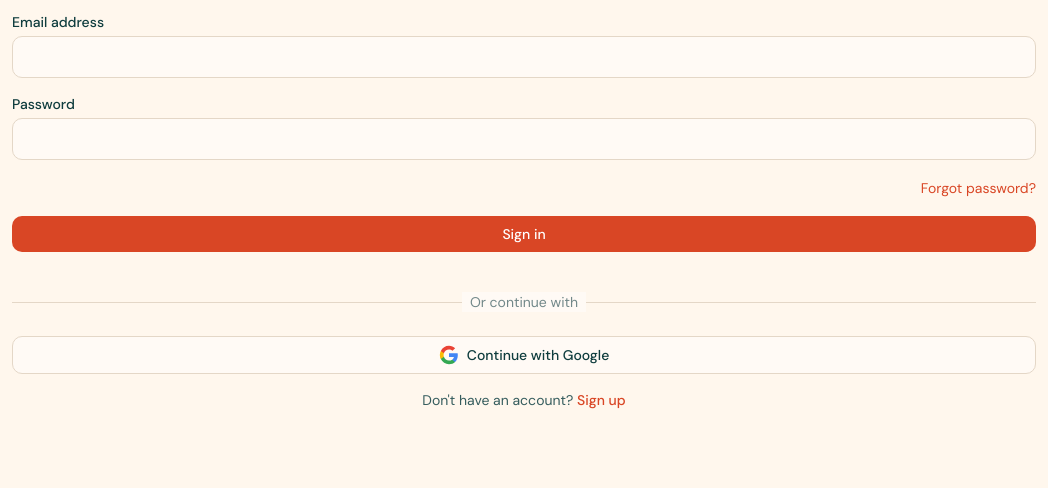
Test: components/auth/LoginForm › shows error for invalid credentials
Type "test@example.com" into the field labelled "Email address".
click(524, 57); type("test@example.com")  # box [12, 36, 1036, 78]
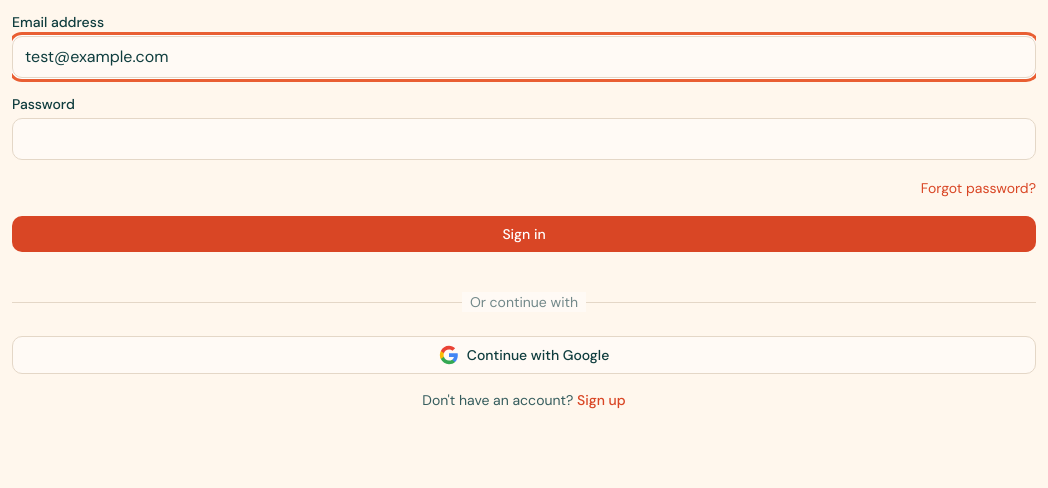
Type "WrongPassword1" into the password field labelled "Password".
click(524, 139); type("WrongPassword1")  # box [12, 118, 1036, 160]
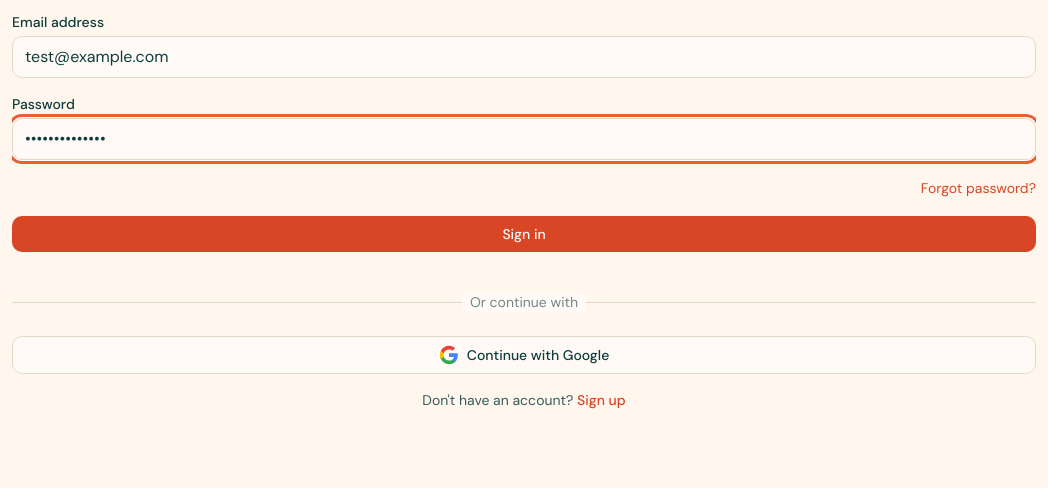
Click the button "Sign in".
click(524, 234)  # box [12, 216, 1036, 252]
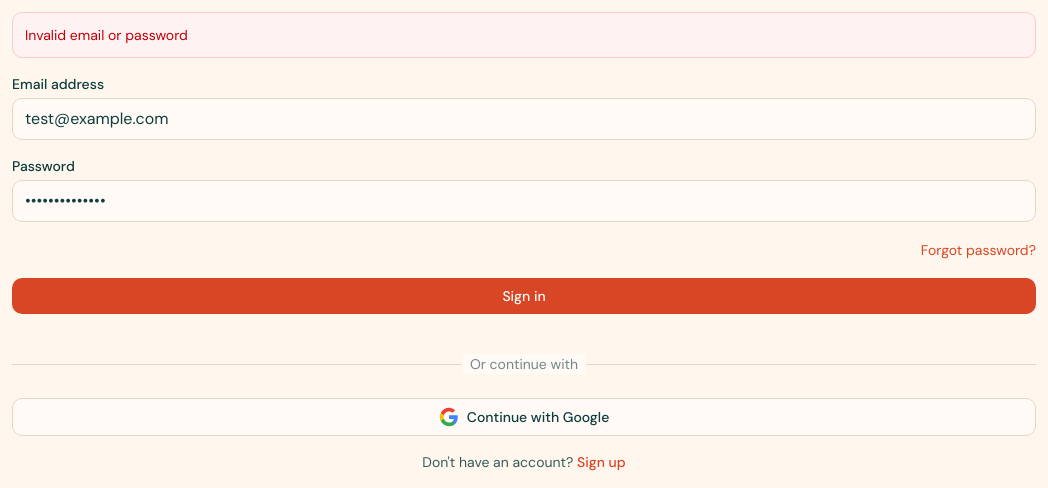
Now the message reads "Invalid email or password", box [25, 26, 188, 44]
